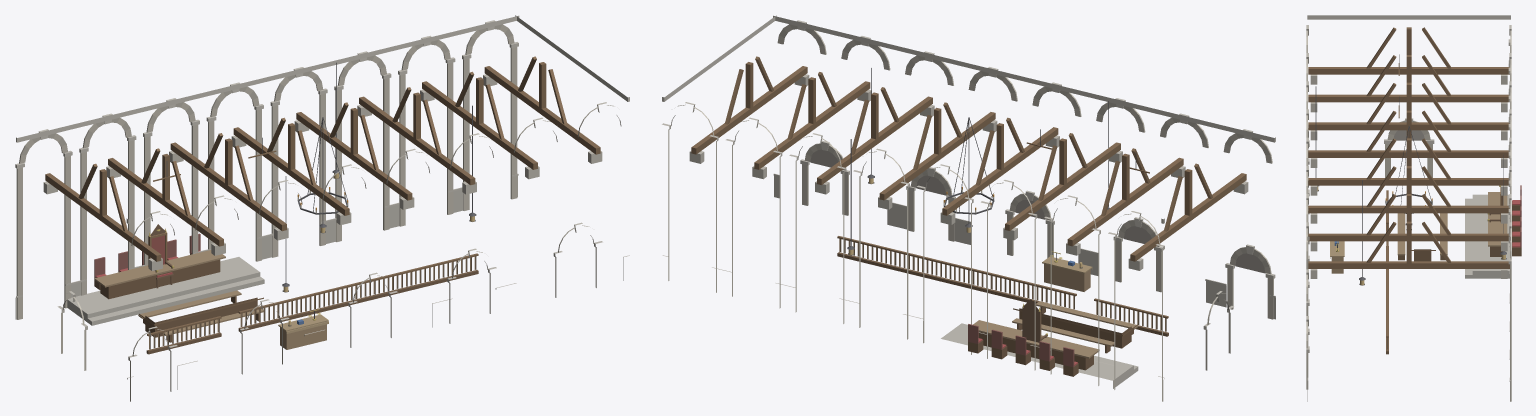
The model's file is interior_b058.glb.
The picture shows the model from 3 angles, left to right: view 1: azimuth 30°, elevation 25°; view 2: azimuth 150°, elevation 25°; view 3: azimuth 270°, elevation 25°; orthographic projection. The views are drawn at different scales.
Parts seen in each view (by area): view 1: Interior_B058_mesh; view 2: Interior_B058_mesh; view 3: Interior_B058_mesh.
Boxes of the visible parts, x1,y1,x2,y2 form: Interior_B058_mesh: (15,15,629,401); Interior_B058_mesh: (662,15,1275,401); Interior_B058_mesh: (1306,15,1521,401).
Size of the model in its own units: 27.46 by 9.54 by 11.22.
